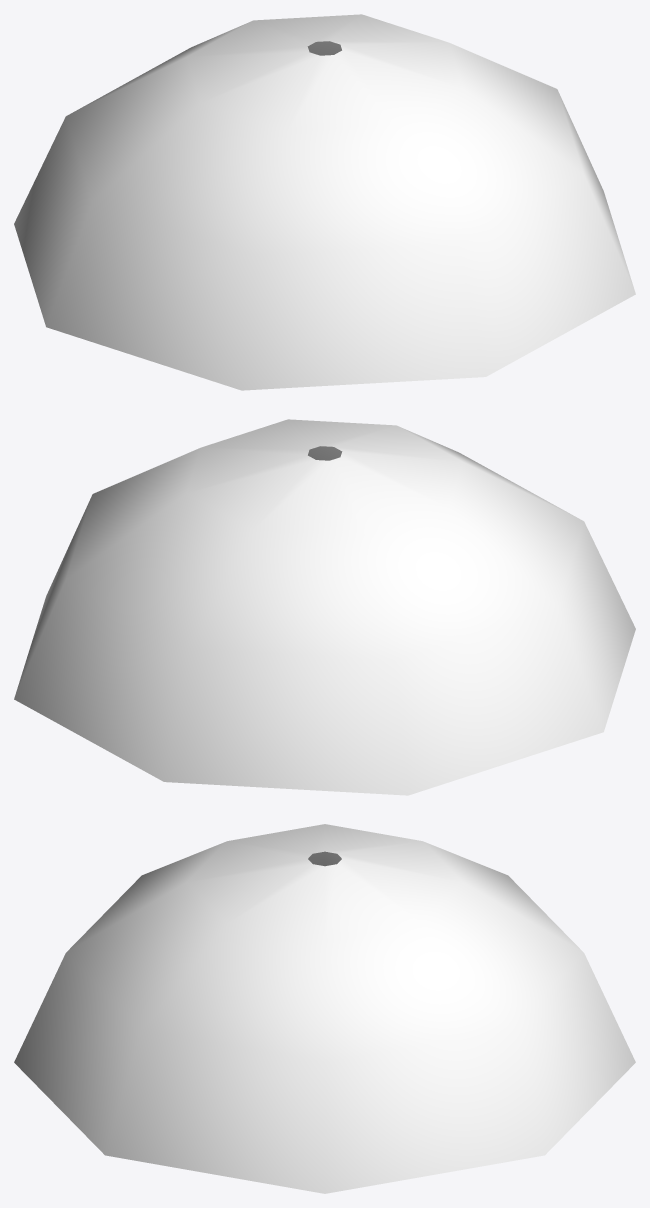
Rendered from mushroom_cap.glb.
3 renders of one model, top to bottom at view 1: azimuth 30°, elevation 25°; view 2: azimuth 150°, elevation 25°; view 3: azimuth 270°, elevation 25°, orthographic. The views are drawn at different scales.
Visible parts, largest first — view 1: MushroomCap; view 2: MushroomCap; view 3: MushroomCap.
Part boxes in pixels (bbox=[...]): MushroomCap: bbox=[14, 14, 635, 390]; MushroomCap: bbox=[14, 419, 635, 795]; MushroomCap: bbox=[14, 824, 635, 1193].
Size of the model in its own units: 0.72 by 0.3 by 0.72.
Materials: 1 (1 with a texture image).
